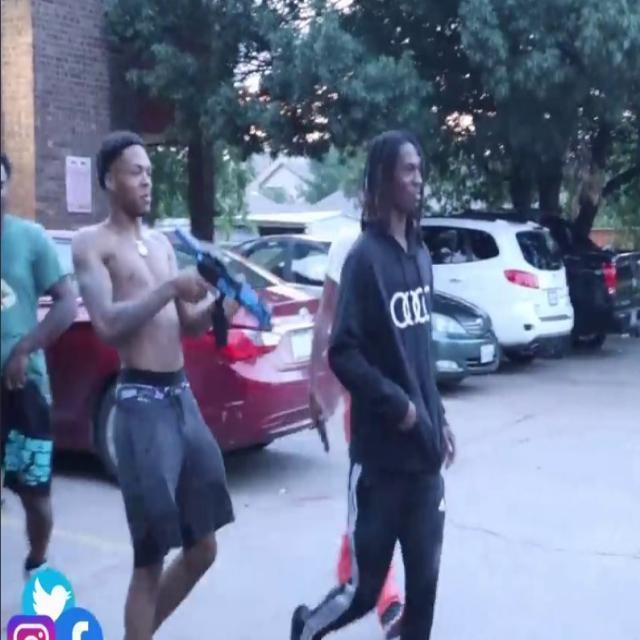Rifle: (166, 224, 275, 352)
